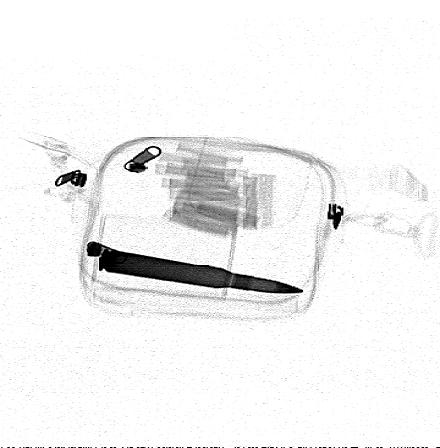Bullet: (96, 248, 309, 294)
